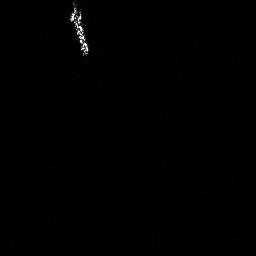ship: (66, 1, 92, 59)
